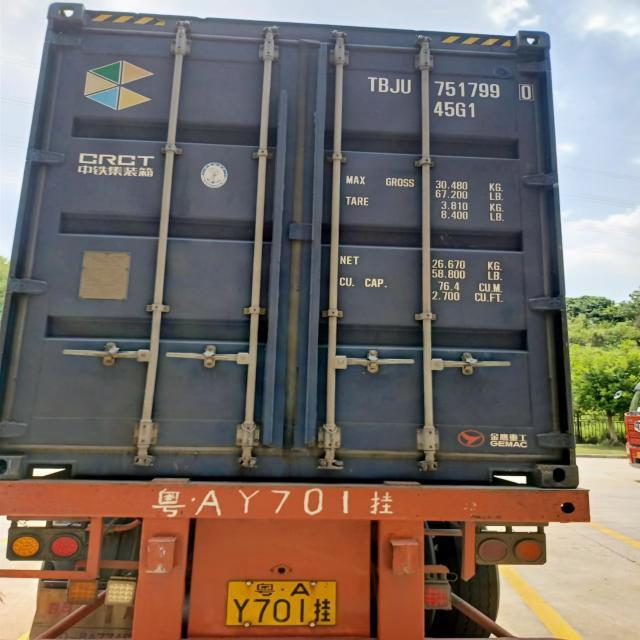ISO: (436, 102, 476, 119)
container_number: (370, 76, 540, 102)
